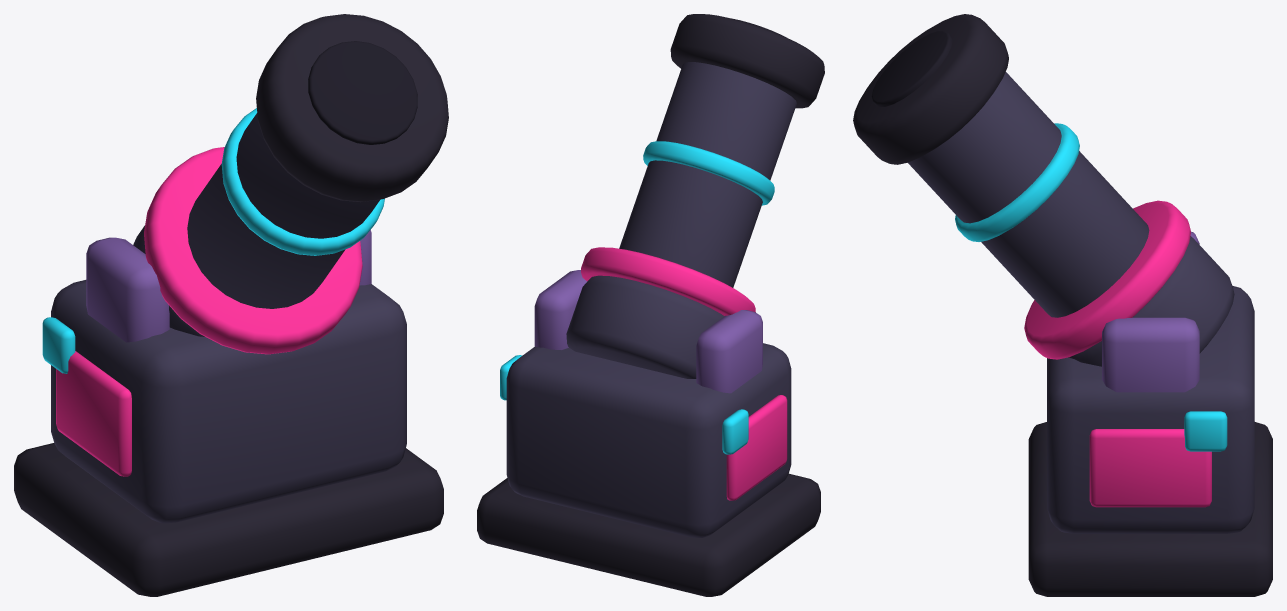
Rendered from CO2Cannon.fbx.
3 views of the same model, side by side, from view 1: azimuth 30°, elevation 25°; view 2: azimuth 150°, elevation 25°; view 3: azimuth 270°, elevation 25° (orthographic). The views are drawn at different scales.
Visible parts, largest first — view 1: Body, Dark, Neon_Magenta, Cone, Purple, Neon_Cyan; view 2: Body, Dark, Neon_Magenta, Purple, Neon_Cyan; view 3: Body, Dark, Neon_Magenta, Purple, Neon_Cyan, Cone.
Boxes of the visible parts, x1,y1,x2,y2 form: Body: (51,113,406,523); Dark: (14,14,448,596); Neon_Magenta: (56,147,362,476); Cone: (308,41,417,144); Purple: (86,230,371,342); Neon_Cyan: (42,108,384,373); Body: (506,62,796,537); Dark: (477,14,824,596); Neon_Magenta: (581,247,787,500); Purple: (534,270,762,393); Neon_Cyan: (500,141,774,454); Body: (908,72,1254,533); Dark: (853,14,1272,596); Neon_Magenta: (1024,200,1211,507); Purple: (1102,231,1199,392); Neon_Cyan: (955,123,1227,451); Cone: (871,31,952,106).
Bounding box in the file's own units: 1.95 × 3.47 × 2.58.
